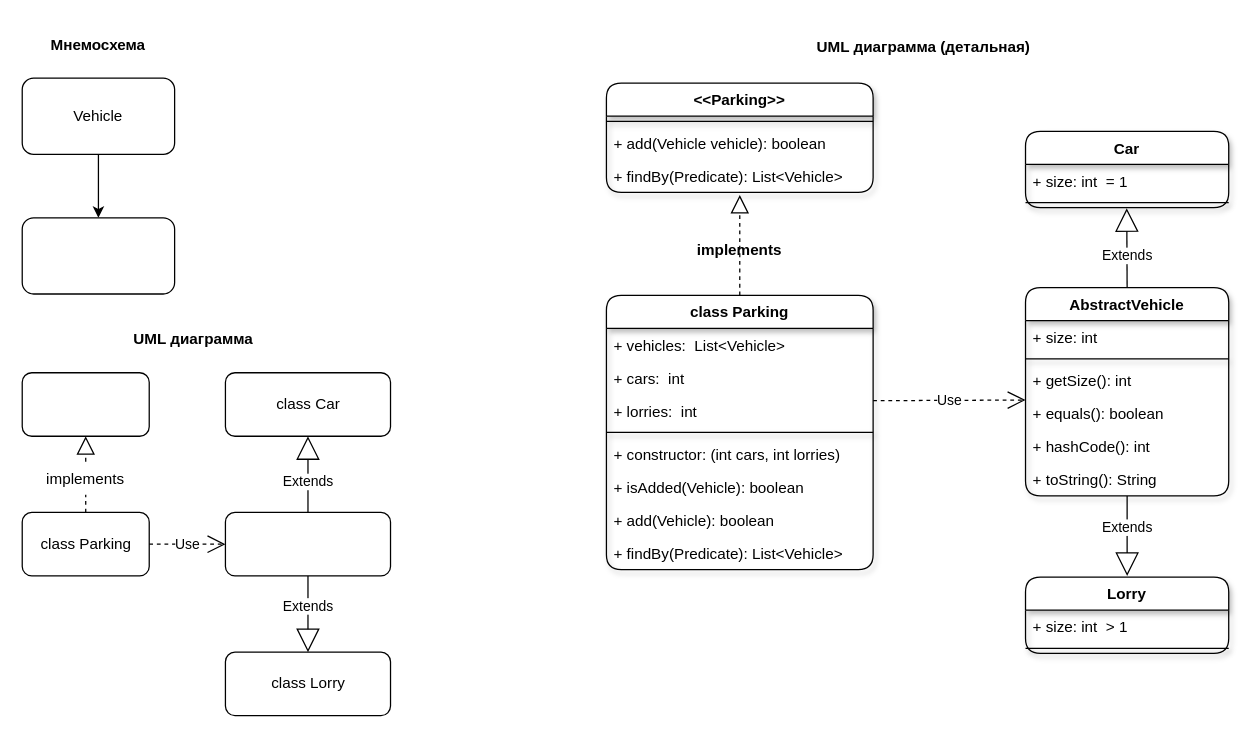
The diagram is 1259 pixels wide and 738 high, and some of its shapes have lost their labels. The shapes that lost their labels are listed below. From the top down, each one's centre as x and y in pixels, then its label:
point 98,255: Parking
point 85,403: «interface» Parking
point 307,543: abstract class Vehicle
